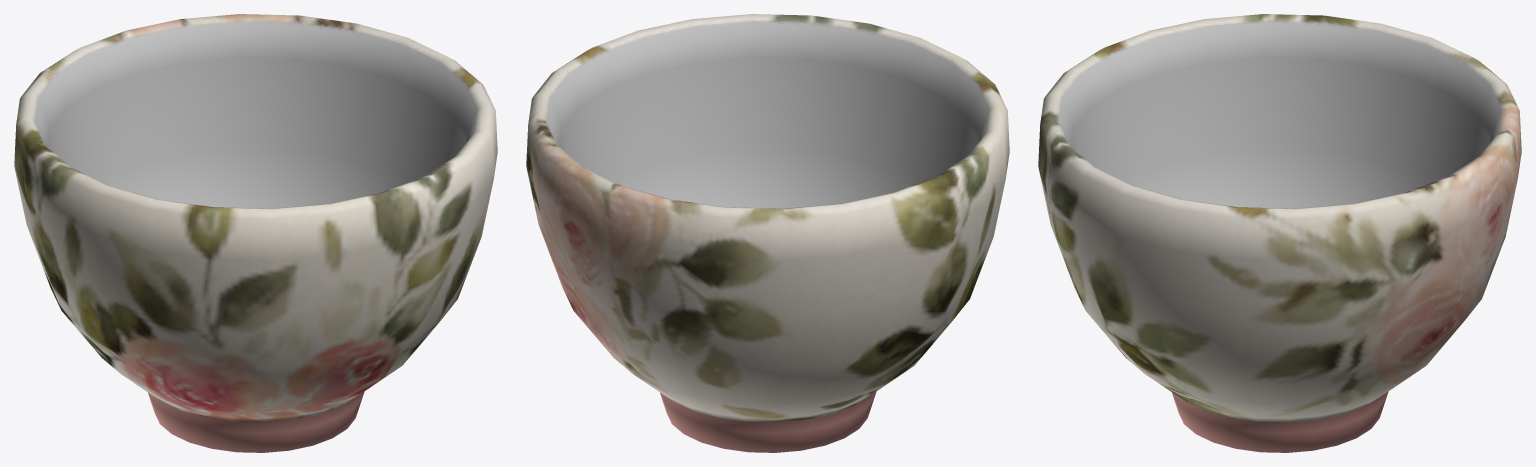
File: ceramic_tea_glass.fbx
3 views of the same model, side by side, from view 1: azimuth 30°, elevation 25°; view 2: azimuth 150°, elevation 25°; view 3: azimuth 270°, elevation 25° (orthographic).
Parts seen in each view (by area): view 1: ceramic_tea_glass; view 2: ceramic_tea_glass; view 3: ceramic_tea_glass.
Part boxes in pixels (x1,y1,x2,y2): ceramic_tea_glass: [14, 14, 497, 452]; ceramic_tea_glass: [526, 14, 1009, 452]; ceramic_tea_glass: [1038, 14, 1521, 452].
Size of the model in its own units: 10.28 by 7.11 by 10.28.
